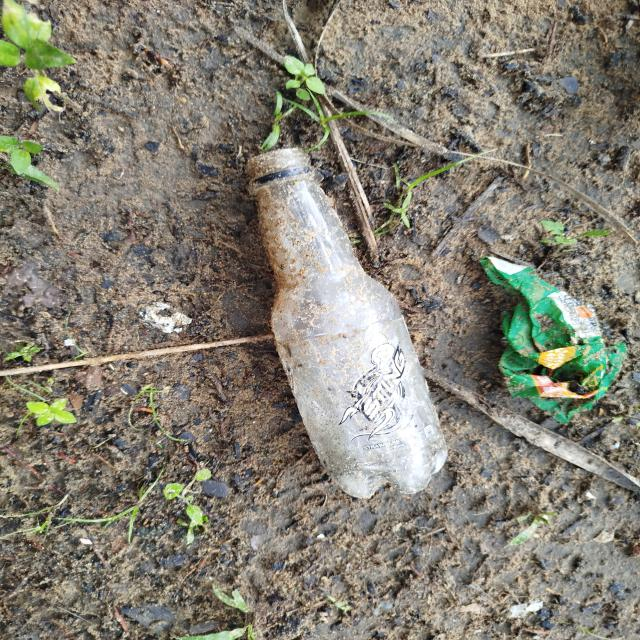plastic: (226, 136, 477, 526)
residual: (459, 242, 634, 407)
